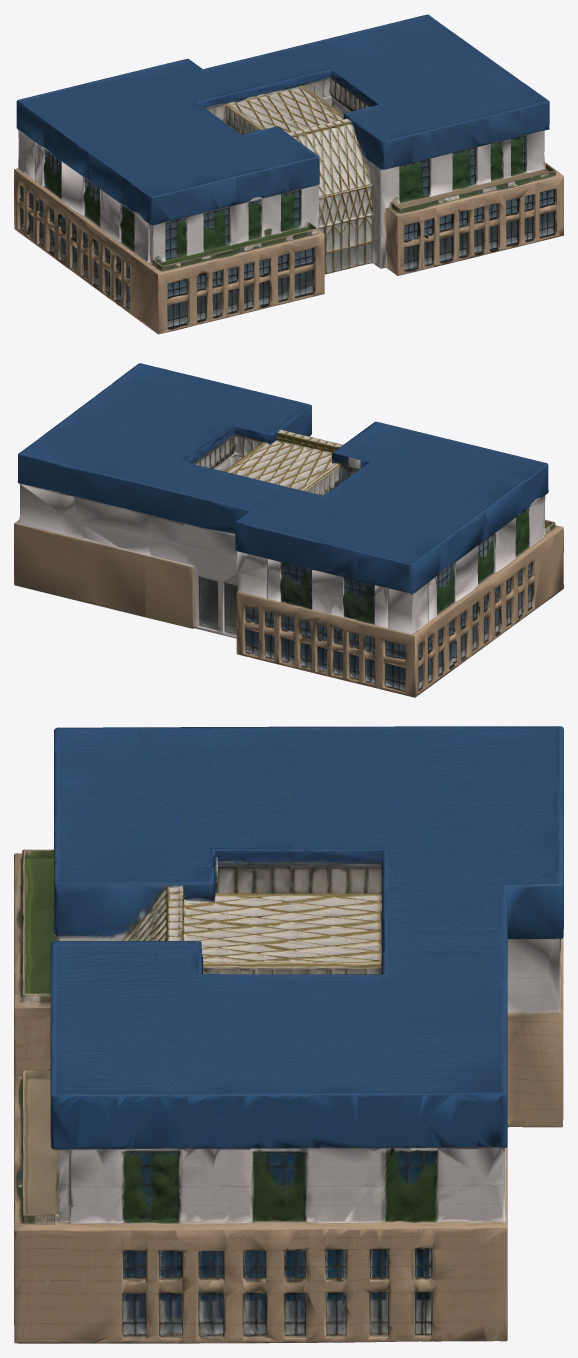
File: bluehall_lod1.glb
3 renders of one model, top to bottom at view 1: azimuth 30°, elevation 25°; view 2: azimuth 150°, elevation 25°; view 3: azimuth 270°, elevation 25°, orthographic. The views are drawn at different scales.
Parts seen in each view (by area): view 1: mesh_node; view 2: mesh_node; view 3: mesh_node.
Boxes of the visible parts, x1,y1,x2,y2 form: mesh_node: (14,14,563,334); mesh_node: (14,363,563,697); mesh_node: (14,726,563,1343).
Size of the model in its own units: 1.9 by 0.5768 by 1.17.
Materials: 1 (1 with a texture image).
